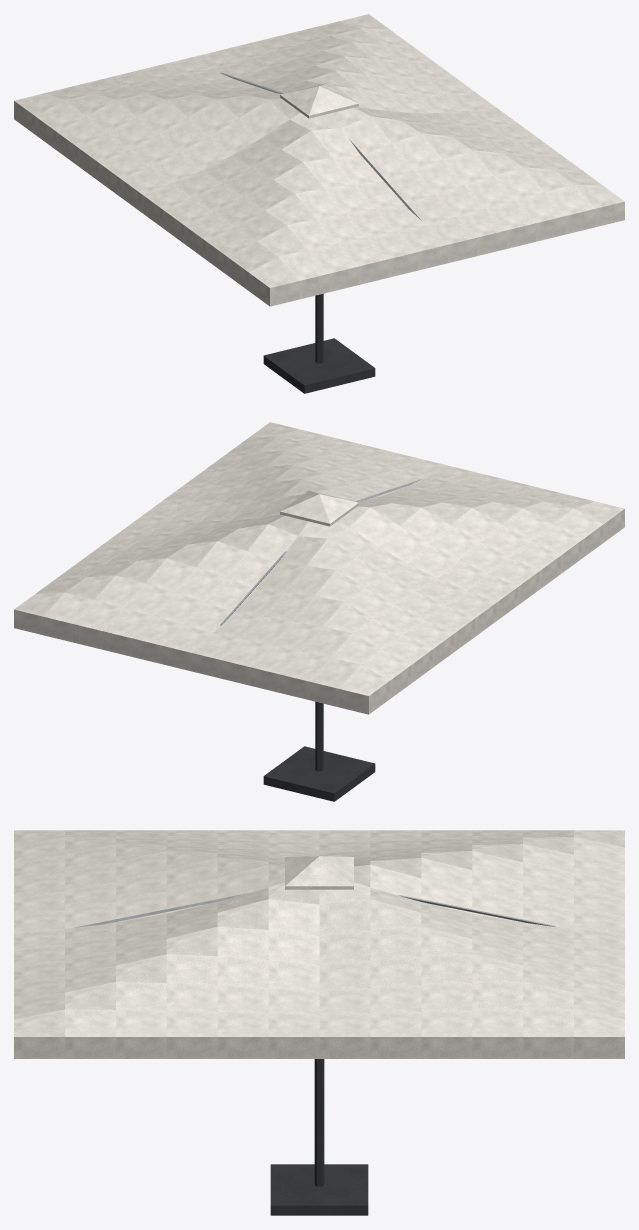
The model's file is SM_Morin_Ombrellone.fbx.
3 renders of one model, top to bottom at view 1: azimuth 30°, elevation 25°; view 2: azimuth 150°, elevation 25°; view 3: azimuth 270°, elevation 25°, orthographic. The views are drawn at different scales.
Visible parts, largest first — view 1: SM_Morin_Ombrellone; view 2: SM_Morin_Ombrellone; view 3: SM_Morin_Ombrellone.
Part boxes in pixels (x1=…): SM_Morin_Ombrellone: x1=14, y1=14, x2=624, y2=393; SM_Morin_Ombrellone: x1=14, y1=422, x2=624, y2=801; SM_Morin_Ombrellone: x1=14, y1=830, x2=624, y2=1215.
Size of what is drawn, in the model's own units: 400 by 500 by 306.
Materials: 1 (1 with a texture image).
